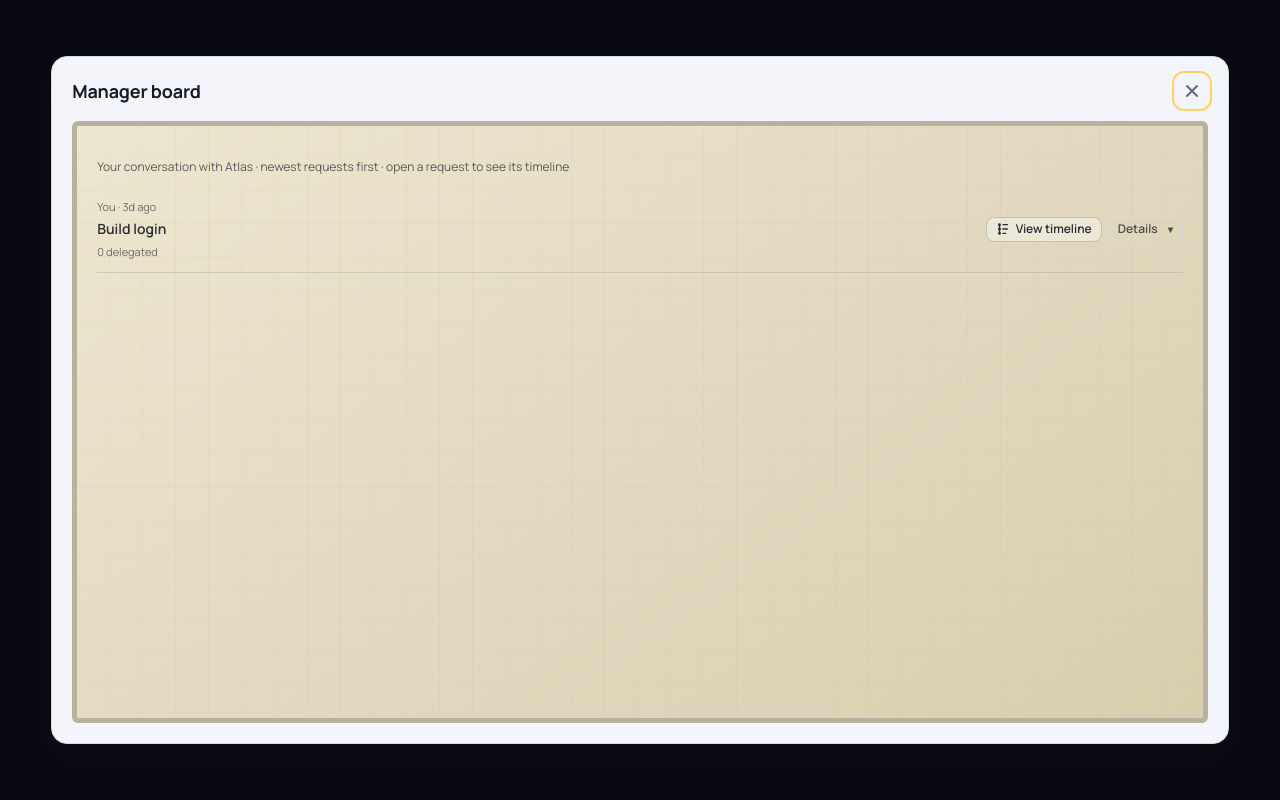
Test case: overlays opened from walk mode release pointer lock › the Manager board's timeline keeps the mouse free from walk mode until the board closes
This screenshot has width=1280, height=800.
Click the button with test id "manager-view-timeline": (1044, 230) x1=986 y1=217 x2=1102 y2=242
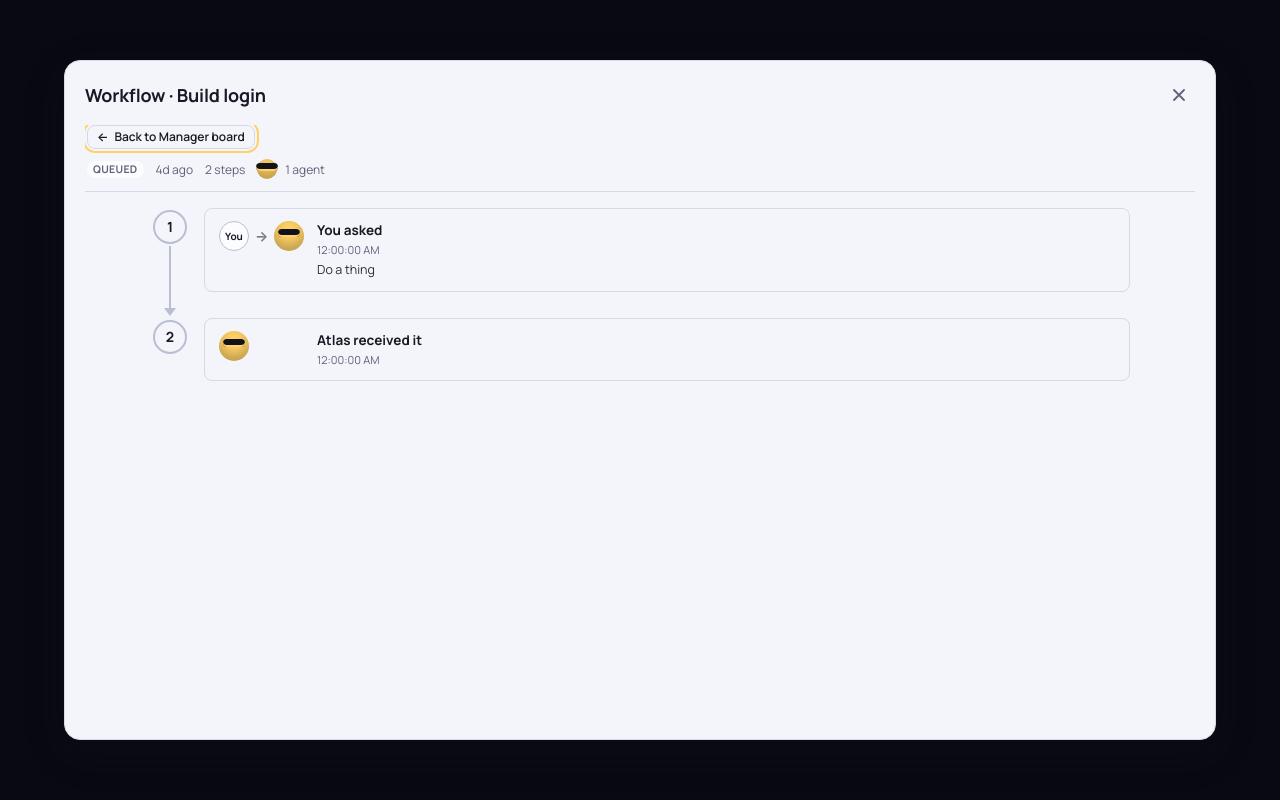
Expected: the element with test id "workflow-board" is shown, x1=85 y1=125 x2=1195 y2=380
Press Escape
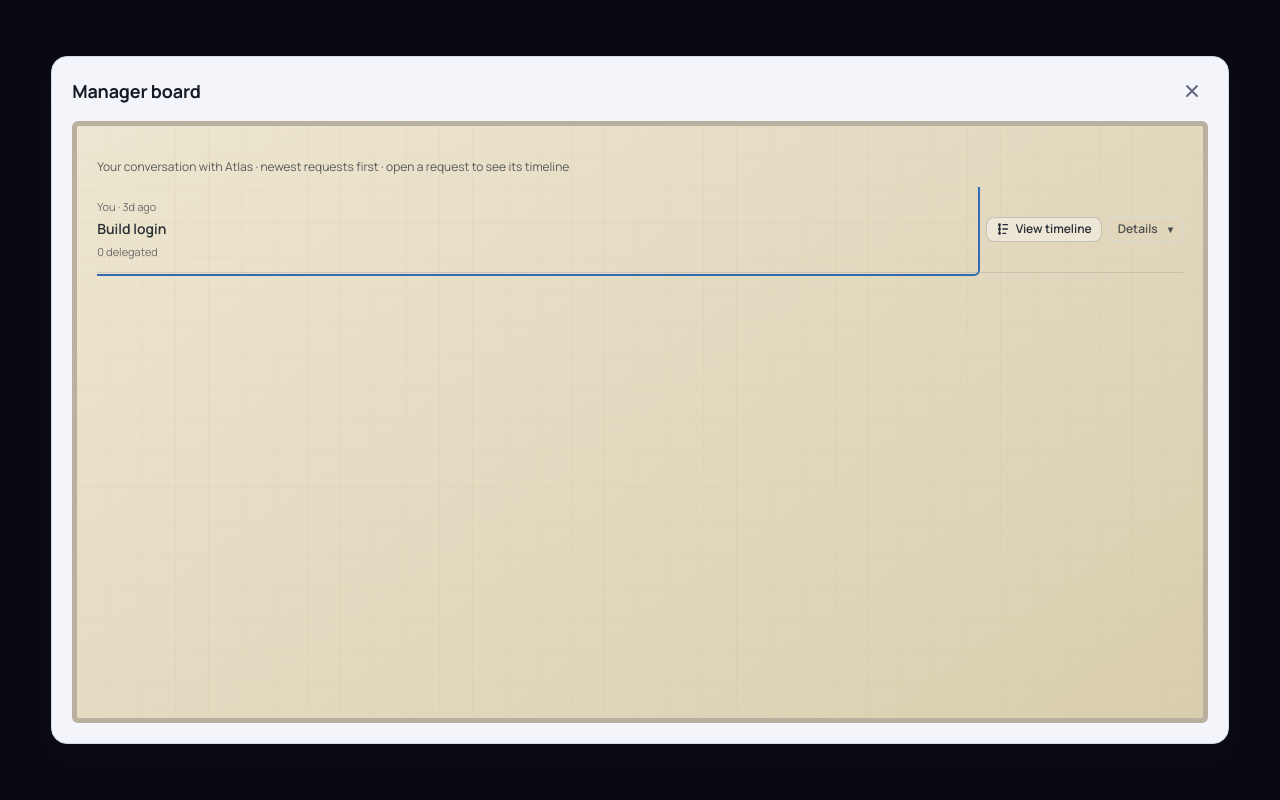
Expected: the element with test id "manager-board" is shown, x1=97 y1=187 x2=1183 y2=273
